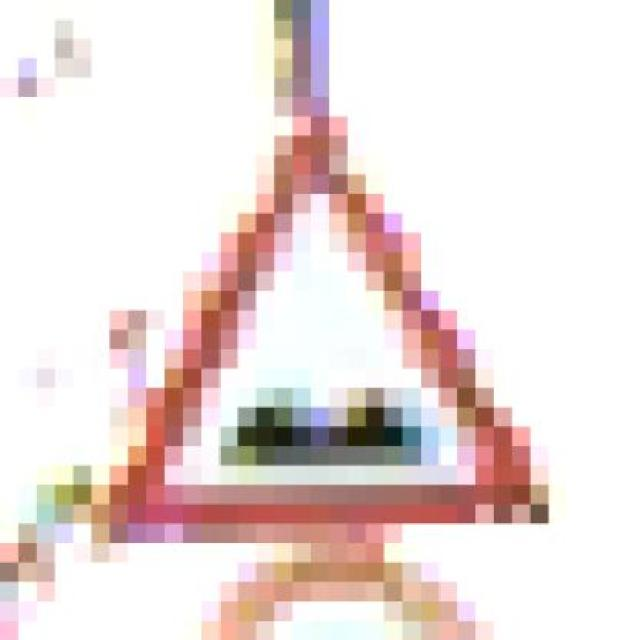Uneven Road: (91, 97, 567, 543)
